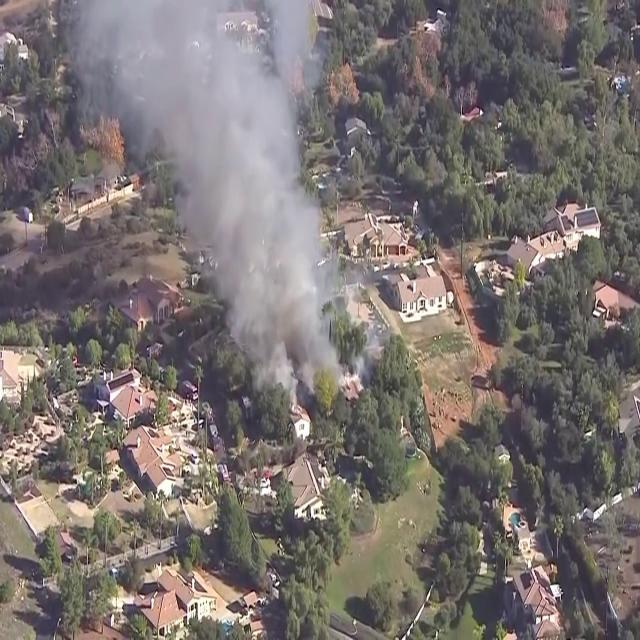Smoke: (63, 0, 350, 421)
